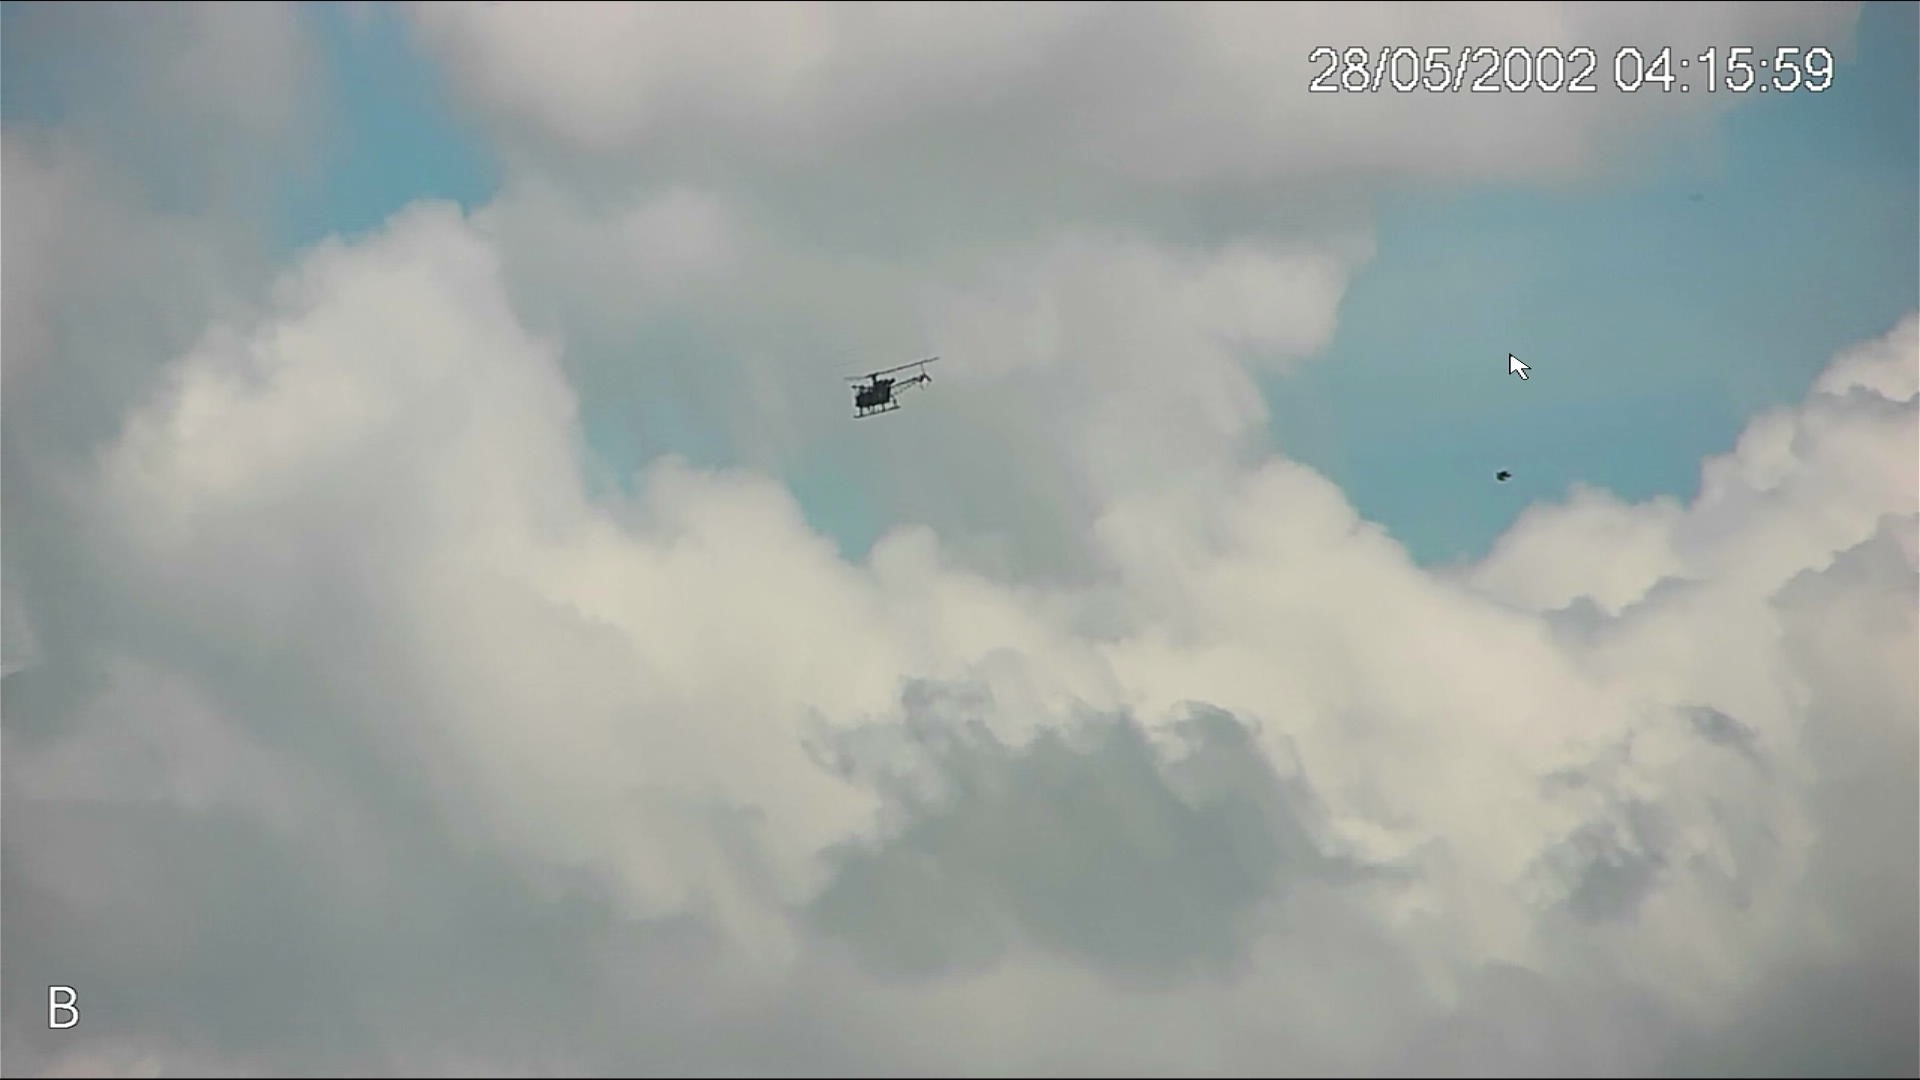SU_30: (847, 355, 940, 419)
